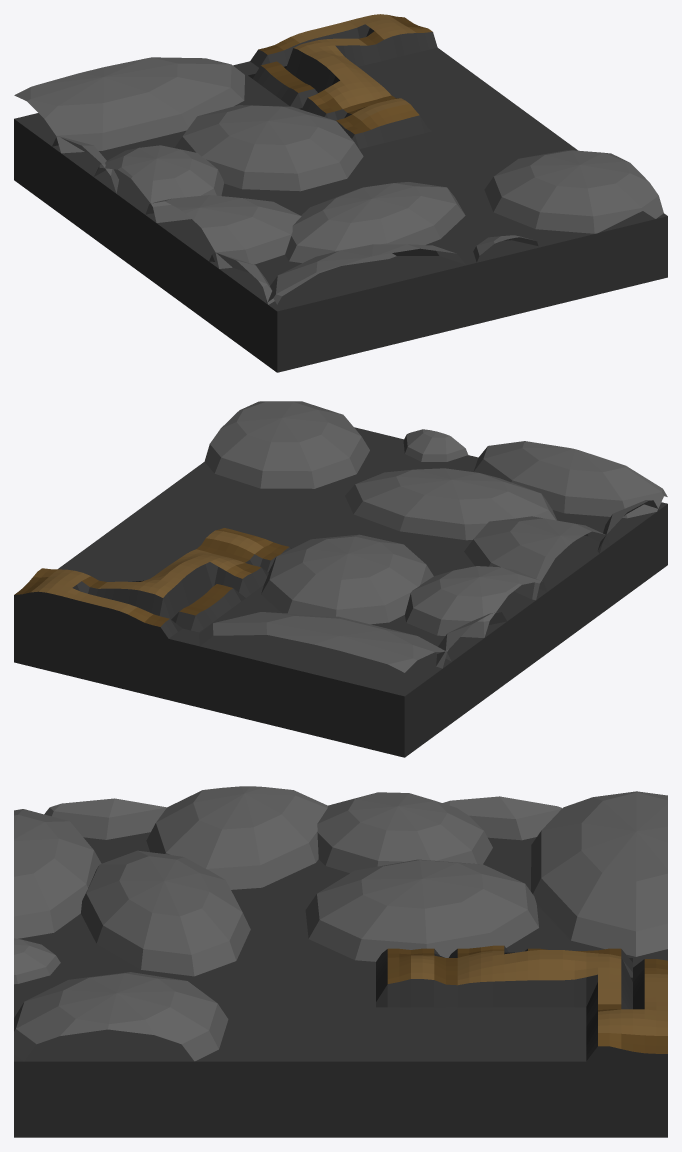
3 views of the same model, one above another, from view 1: azimuth 30°, elevation 25°; view 2: azimuth 150°, elevation 25°; view 3: azimuth 270°, elevation 25° (orthographic). The views are drawn at different scales.
Parts seen in each view (by area): view 1: shapesz-t197; view 2: shapesz-t197; view 3: shapesz-t197.
Part boxes in pixels (x1,y1,x2,y2): shapesz-t197: (14,14,667,372); shapesz-t197: (14,401,667,757); shapesz-t197: (14,786,667,1137).
Bounding box in the file's own units: 2 × 0.458 × 2.33.
